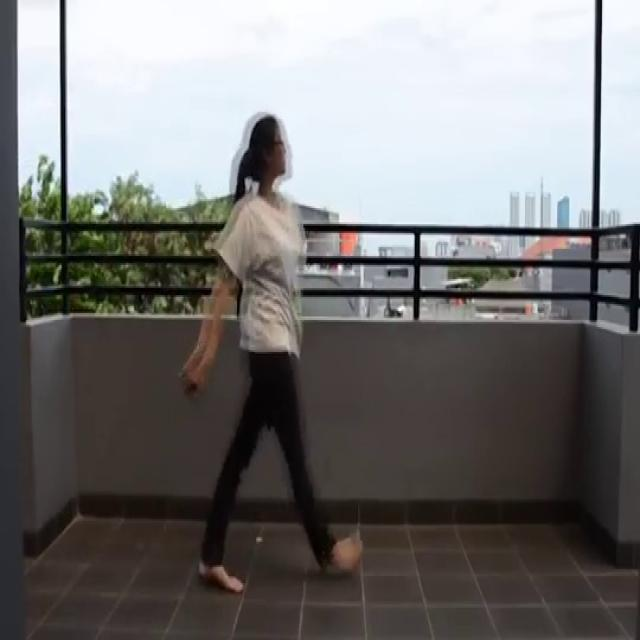normal: (177, 101, 373, 601)
